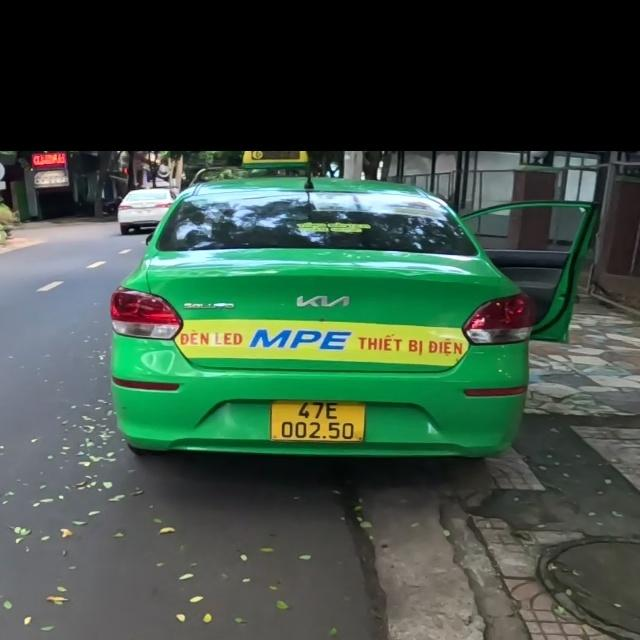license-plate: (269, 400, 366, 446)
